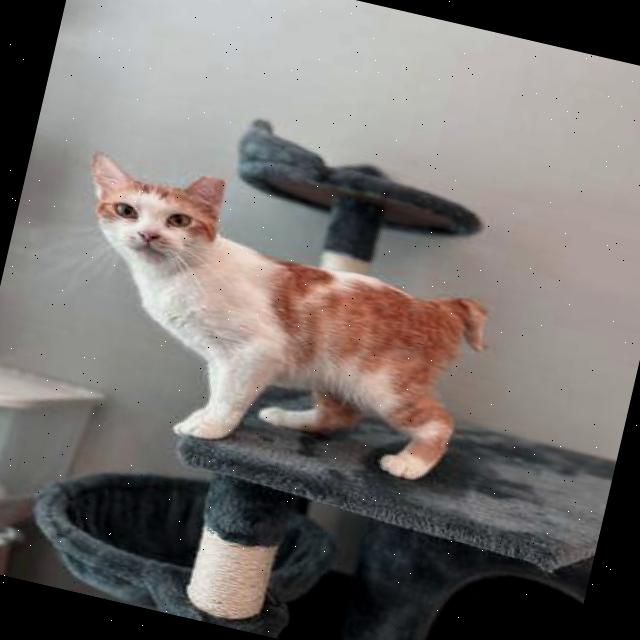manx_cat: (49, 133, 255, 304)
